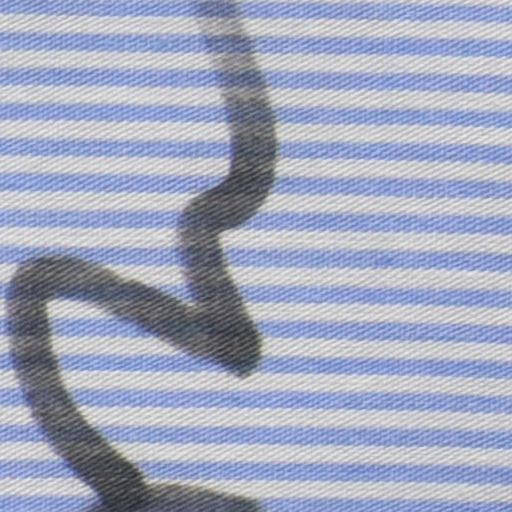defect: (6, 1, 275, 510)
